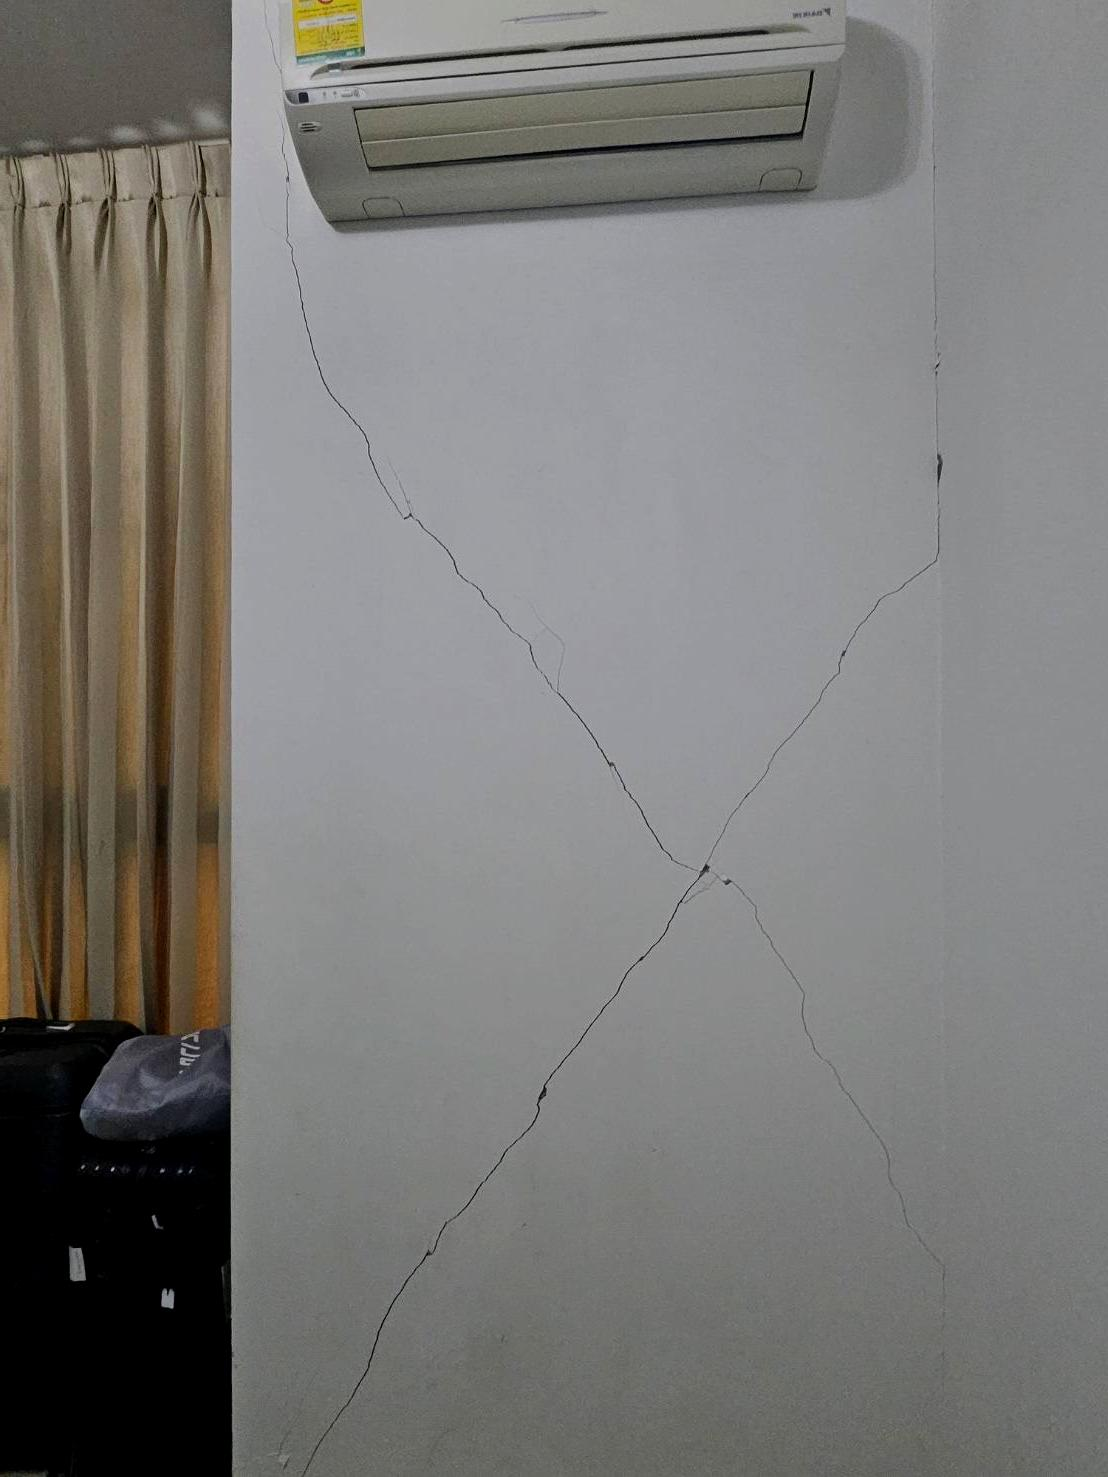High: (244, 225, 963, 1469)
